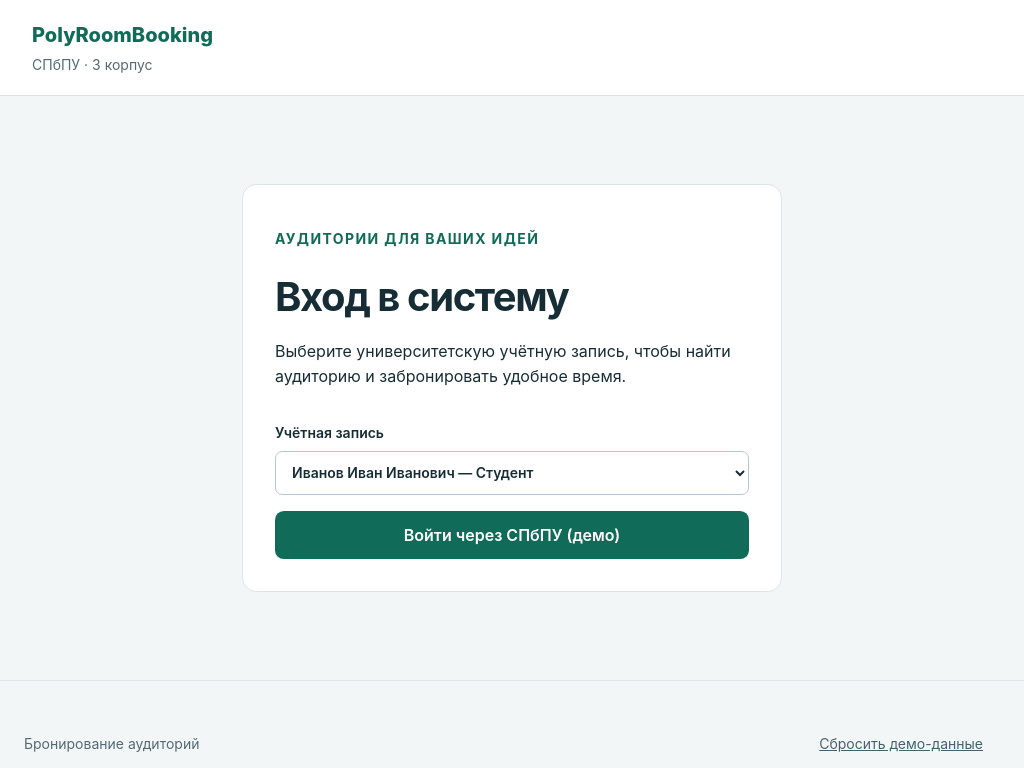
Test: PART 2: маршруты и авторизация › позволяет войти и выйти
Click the button "Войти через СПбПУ (демо)" at (512, 535), box [275, 511, 749, 559]
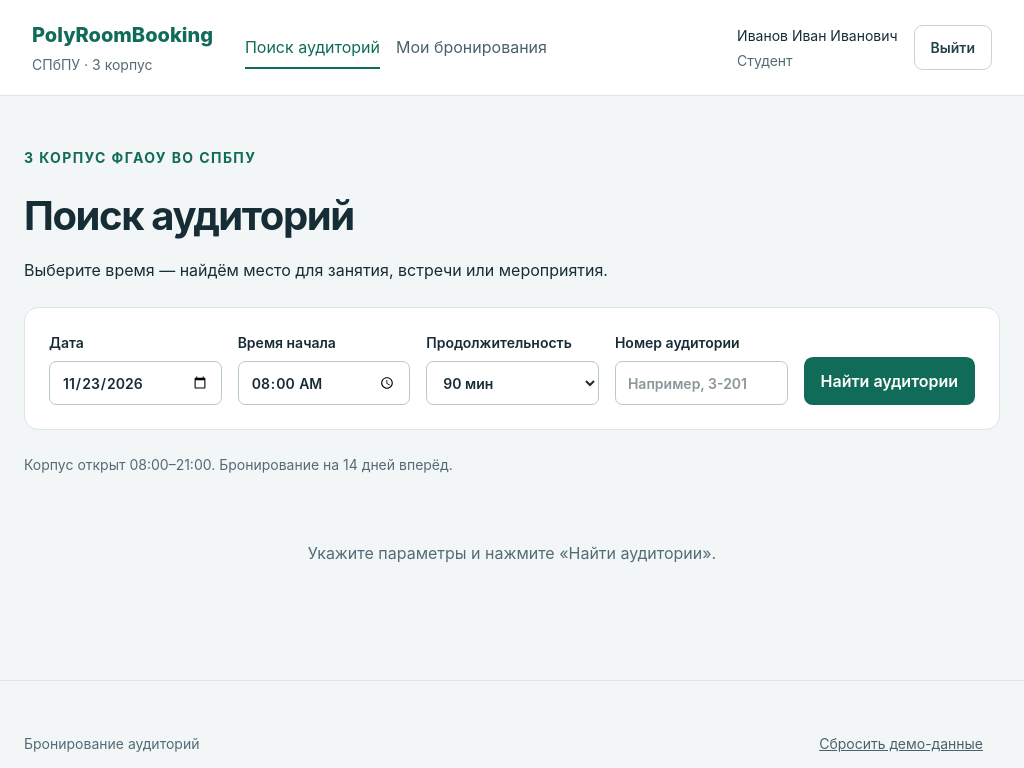
Now the heading "Поиск аудиторий" is shown, box [24, 191, 354, 240]
Click the button "Выйти" at (953, 48), box [914, 25, 992, 70]
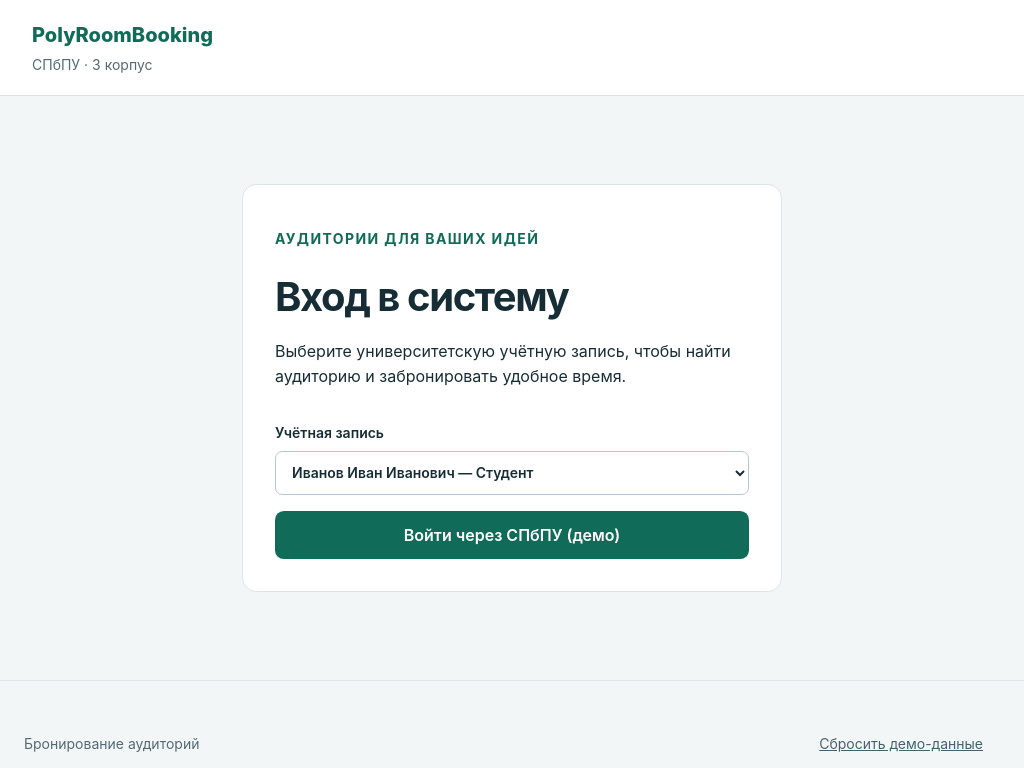
Now the heading "Вход в систему" is shown, box [275, 272, 568, 321]
